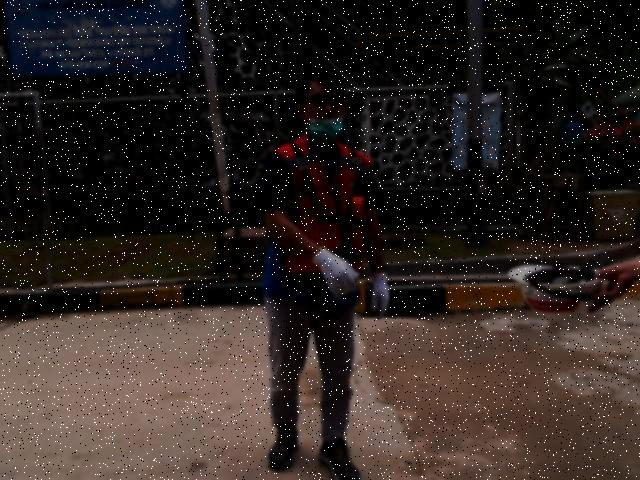glasses: (307, 93, 345, 108)
gloves: (309, 246, 362, 299), (368, 271, 393, 320)
helmet: (503, 262, 603, 318)
mask: (308, 117, 345, 143)
safety-shoes: (317, 435, 365, 479), (266, 417, 301, 473)
vest: (284, 196, 365, 273)
